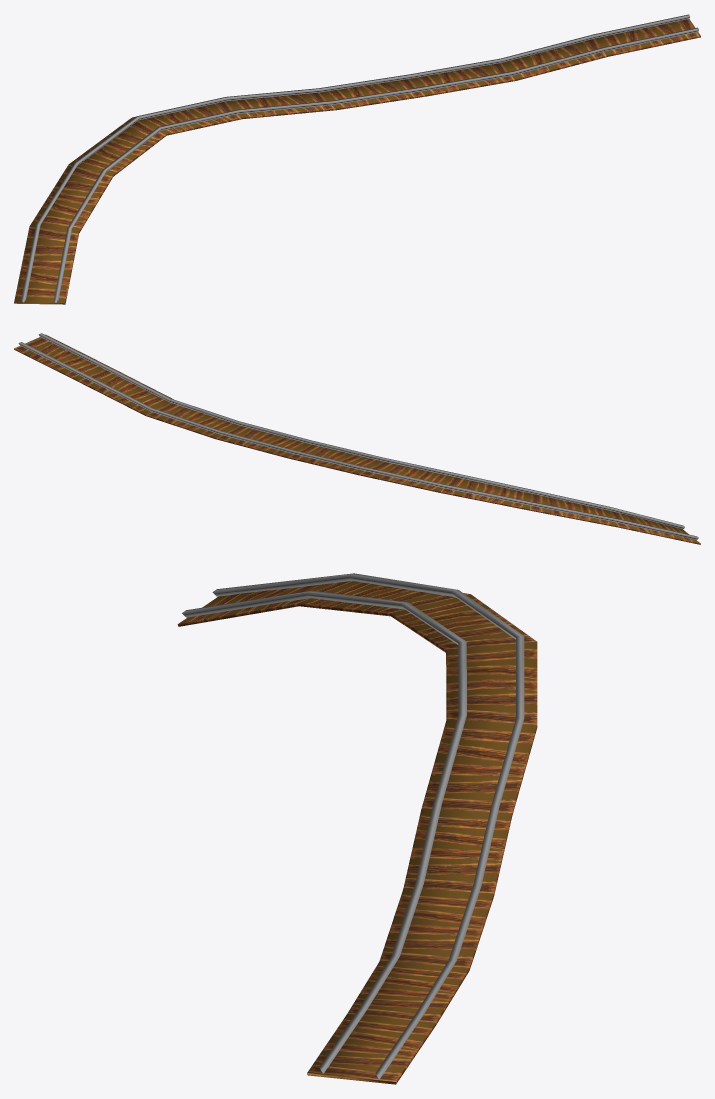
The model's file is SWORDLIGHT20_TRACK3.fbx.
3 renders of one model, top to bottom at view 1: azimuth 30°, elevation 25°; view 2: azimuth 150°, elevation 25°; view 3: azimuth 270°, elevation 25°, orthographic. The views are drawn at different scales.
Parts seen in each view (by area): view 1: SWORDLIGHT20_TRACK3; view 2: SWORDLIGHT20_TRACK3; view 3: SWORDLIGHT20_TRACK3.
Part boxes in pixels (x1,y1,x2,y2): SWORDLIGHT20_TRACK3: (14, 14, 700, 304); SWORDLIGHT20_TRACK3: (14, 333, 700, 544); SWORDLIGHT20_TRACK3: (177, 573, 537, 1084).
Bounding box in the file's own units: 263731 × 28744 × 63735.
2 materials, 2 textured.
